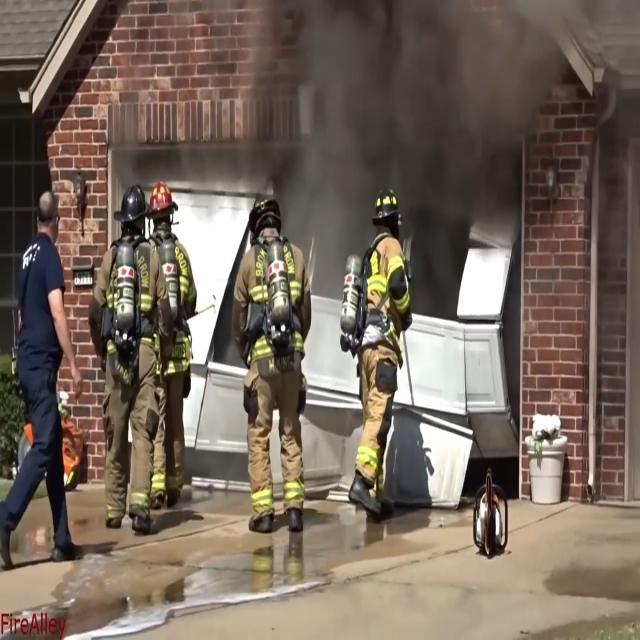Smoke: (314, 9, 533, 180)
